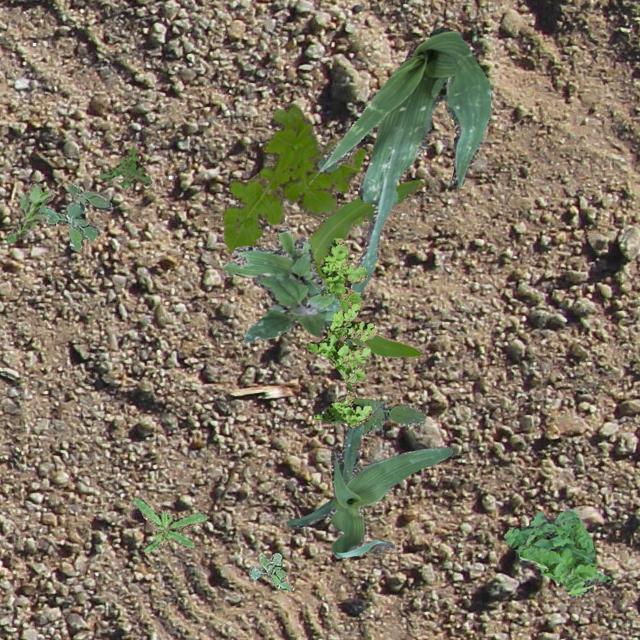crop: (316, 27, 488, 296), (286, 421, 452, 557), (308, 178, 426, 356), (220, 226, 350, 344)
weed: (222, 105, 364, 252), (306, 238, 376, 427), (502, 508, 610, 596), (242, 250, 334, 342), (36, 182, 110, 250), (132, 497, 208, 552), (330, 398, 424, 436), (6, 182, 54, 242), (98, 146, 150, 188), (248, 552, 292, 590)
